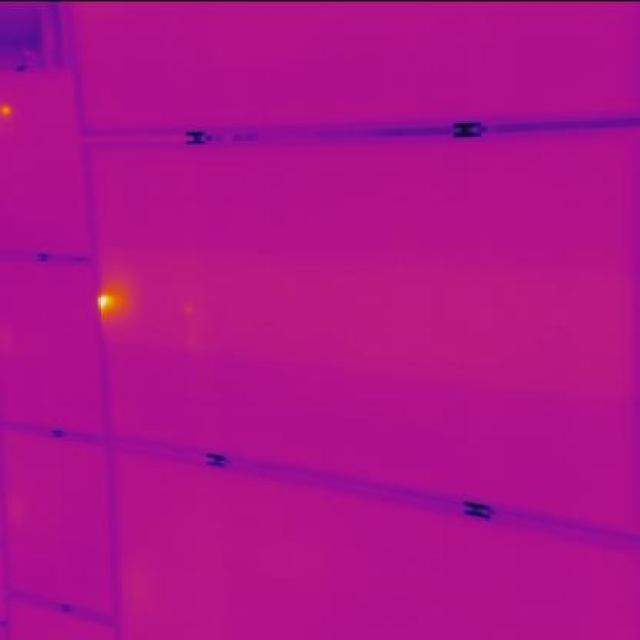hotspot: (96, 284, 121, 310)
